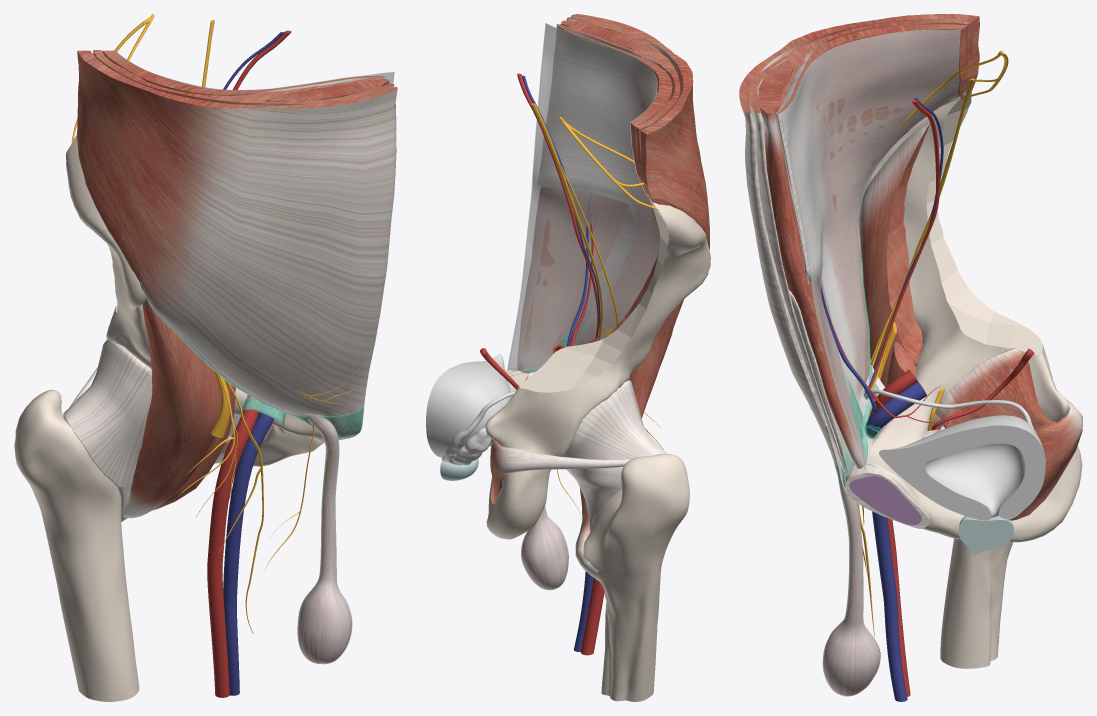
Rendered from open3dmodel-inguinal-and-femoral-canal-hernia-surgery.glb.
3 renders of one model, left to right at view 1: azimuth 30°, elevation 25°; view 2: azimuth 150°, elevation 25°; view 3: azimuth 270°, elevation 25°, orthographic. The views are drawn at different scales.
Parts seen in each view (by area): view 1: External abdominal oblique muscle.r, Femur.r, Iliacus muscle.r, Hip joint capsule.r, Hip bone.r, External spermatic fascia.r, Cremaster muscle and fascia.r, Femoral artery.r, Femoral vein.r, Internal abdominal oblique muscle.r, Transversus abdominis muscle.r, Genitofemoral nerve, femoral branch.r (+6 smaller); view 2: Transversalis fascia.r, Transversus abdominis muscle.r, Hip bone.r, Femur.r, Rectus abdominis muscle.r, External abdominal oblique muscle.r, Hip joint capsule.r, Urinary bladder, External spermatic fascia.r, Obturator internus muscle.r, Cremaster muscle and fascia.r, Iliacus muscle.r (+12 smaller); view 3: Transversus abdominis muscle.r, Transversalis fascia.r, Hip bone.r, Urinary bladder, Iliacus muscle.r, Rectus abdominis muscle.r, External abdominal oblique muscle.r, Obturator internus muscle.r, Femur.r, Internal abdominal oblique muscle.r, External spermatic fascia.r, Cremaster muscle and fascia.r (+16 smaller).
Part boxes in pixels (x1,y1,x2,y2): External abdominal oblique muscle.r: (76, 50, 397, 438); Femur.r: (14, 389, 139, 701); Iliacus muscle.r: (123, 299, 221, 518); Hip joint capsule.r: (63, 339, 152, 519); Hip bone.r: (66, 136, 324, 466); External spermatic fascia.r: (297, 414, 352, 664); Cremaster muscle and fascia.r: (298, 416, 351, 663); Femoral artery.r: (207, 397, 259, 697); Femoral vein.r: (223, 407, 273, 695); Internal abdominal oblique muscle.r: (93, 50, 394, 105); Transversus abdominis muscle.r: (102, 50, 385, 95); Genitofemoral nerve, femoral branch.r: (178, 374, 263, 633); Transversalis fascia.r: (507, 23, 660, 373); Transversus abdominis muscle.r: (537, 24, 672, 345); Hip bone.r: (485, 193, 710, 539); Femur.r: (583, 454, 689, 701); Rectus abdominis muscle.r: (517, 20, 652, 371); External abdominal oblique muscle.r: (571, 14, 709, 249); Hip joint capsule.r: (564, 380, 667, 530); Urinary bladder: (426, 354, 511, 457); External spermatic fascia.r: (521, 505, 568, 590); Obturator internus muscle.r: (490, 372, 632, 504); Cremaster muscle and fascia.r: (522, 509, 568, 588); Iliacus muscle.r: (610, 253, 683, 418); Transversus abdominis muscle.r: (776, 24, 968, 475); Transversalis fascia.r: (781, 29, 960, 472); Hip bone.r: (853, 90, 1082, 542); Urinary bladder: (879, 415, 1045, 520); Iliacus muscle.r: (859, 122, 929, 386); Rectus abdominis muscle.r: (758, 59, 865, 468); External abdominal oblique muscle.r: (739, 14, 979, 495); Obturator internus muscle.r: (922, 348, 1082, 520); Femur.r: (940, 538, 1012, 668); Internal abdominal oblique muscle.r: (749, 19, 973, 476); External spermatic fascia.r: (822, 475, 880, 696); Cremaster muscle and fascia.r: (824, 480, 880, 695).
Size of the model in its own units: 0.1482 by 0.3419 by 0.1678.
14 materials, 5 textured.
